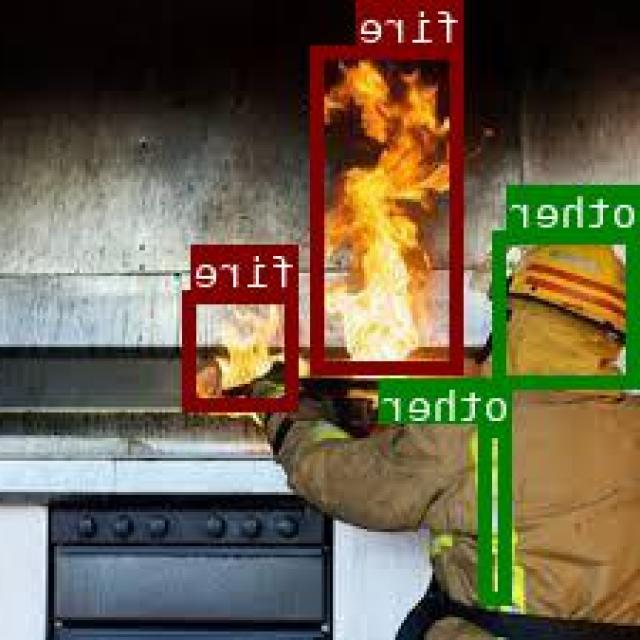fire: (314, 44, 464, 370), (187, 288, 300, 408)
other: (495, 229, 640, 385), (482, 422, 515, 602)
